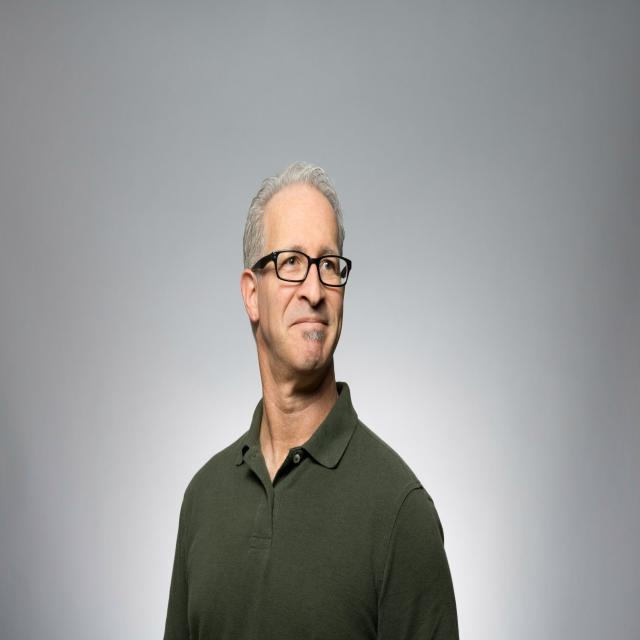adult: (165, 165, 460, 640)
